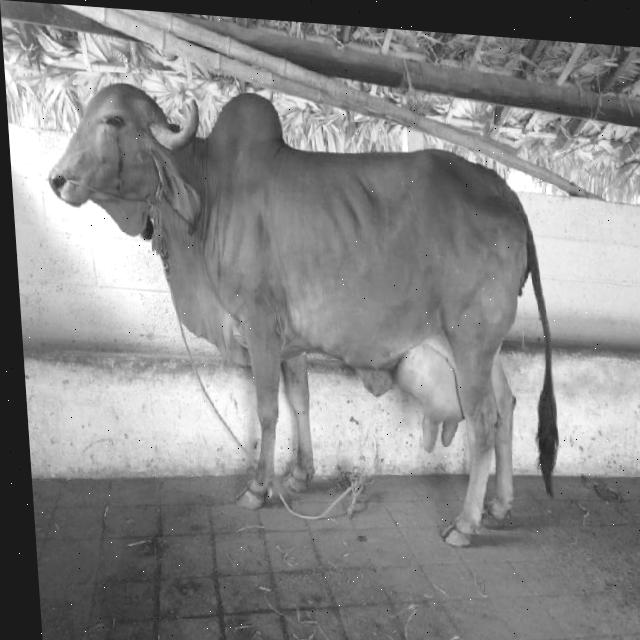Cow: (41, 74, 568, 554)
